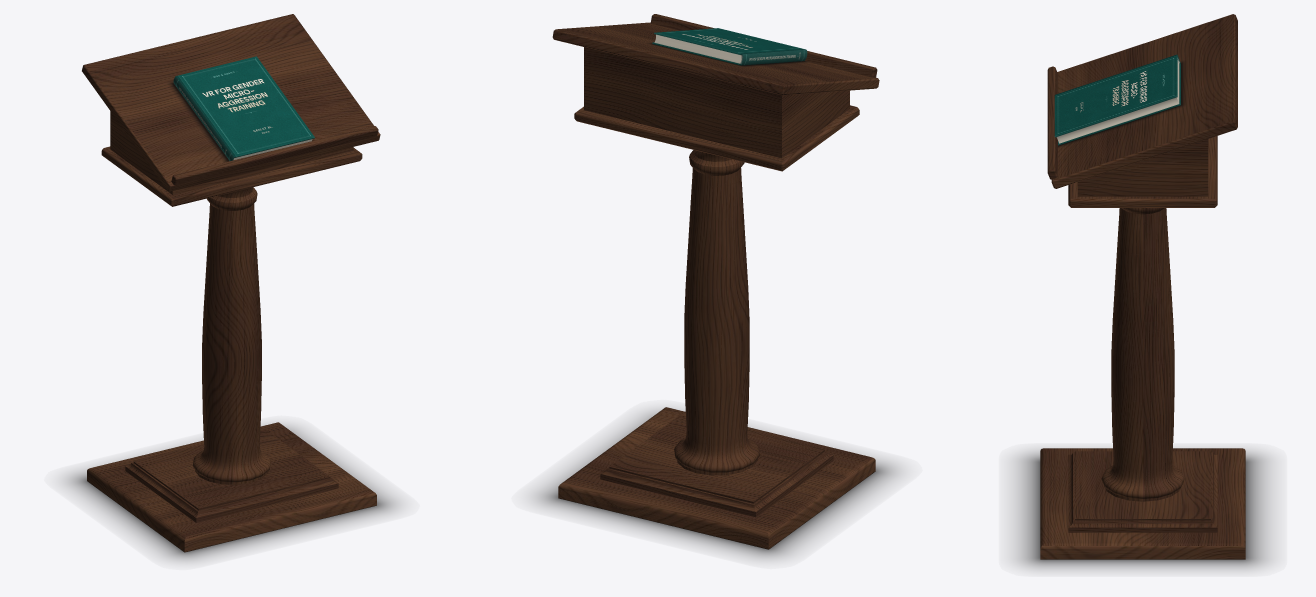
Rendered from caki-2026-on-lectern.glb.
3 views of the same model, side by side, from view 1: azimuth 30°, elevation 25°; view 2: azimuth 150°, elevation 25°; view 3: azimuth 270°, elevation 25° (orthographic). The views are drawn at different scales.
Visible parts, largest first — view 1: lectern, caki-2026; view 2: lectern, caki-2026; view 3: lectern, caki-2026, caki-2026-contact-shadow.
Part boxes in pixels (bbox=[...]): lectern: bbox=[65, 14, 398, 561]; caki-2026: bbox=[173, 56, 314, 160]; lectern: bbox=[534, 14, 899, 558]; caki-2026: bbox=[652, 28, 807, 65]; lectern: bbox=[1016, 14, 1269, 569]; caki-2026: bbox=[1054, 54, 1180, 145]; caki-2026-contact-shadow: bbox=[1058, 61, 1184, 147].
Size of the model in its own units: 0.74 by 1.05 by 0.68.
7 materials, 7 textured.
